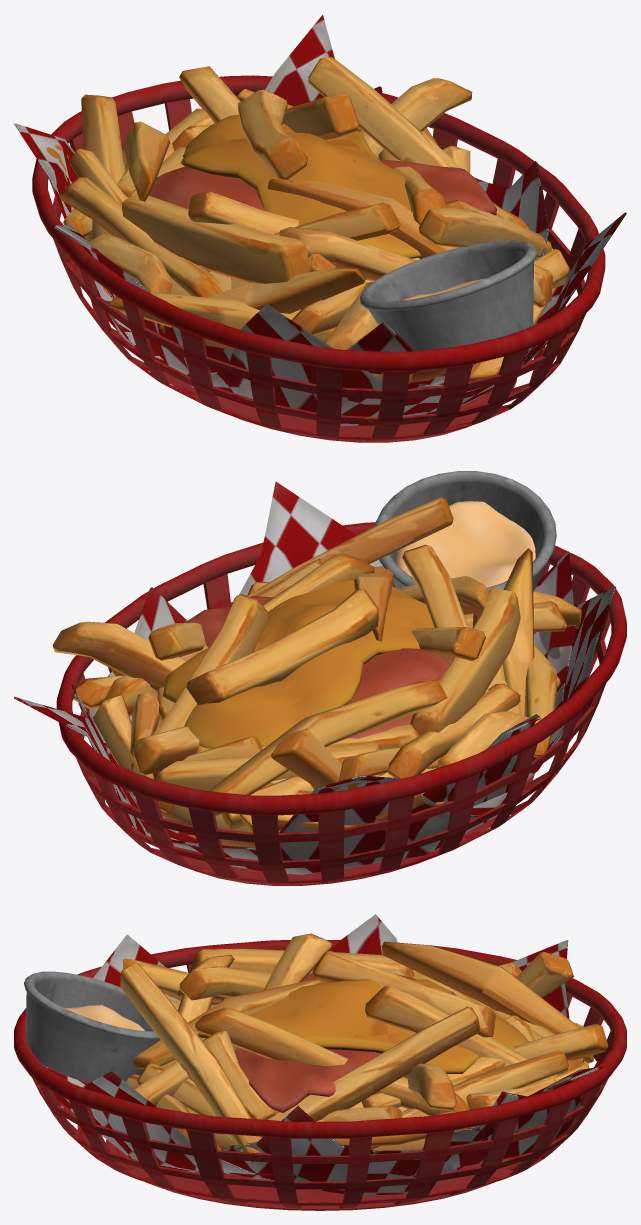
The model's file is fries.glb.
3 renders of one model, top to bottom at view 1: azimuth 30°, elevation 25°; view 2: azimuth 150°, elevation 25°; view 3: azimuth 270°, elevation 25°, orthographic. The views are drawn at different scales.
Parts seen in each view (by area): view 1: Object_3; view 2: Object_3; view 3: Object_3.
Part boxes in pixels (x1,y1,x2,y2): Object_3: (14, 14, 626, 442); Object_3: (14, 471, 626, 885); Object_3: (14, 914, 626, 1210).
Size of the model in its own units: 2.73 by 1.24 by 3.67.
Materials: 1 (1 with a texture image).
